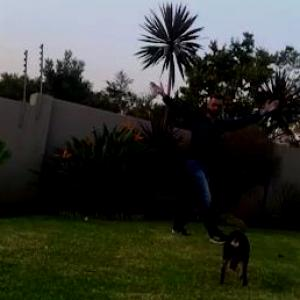takeoff: (160, 57, 268, 251)
